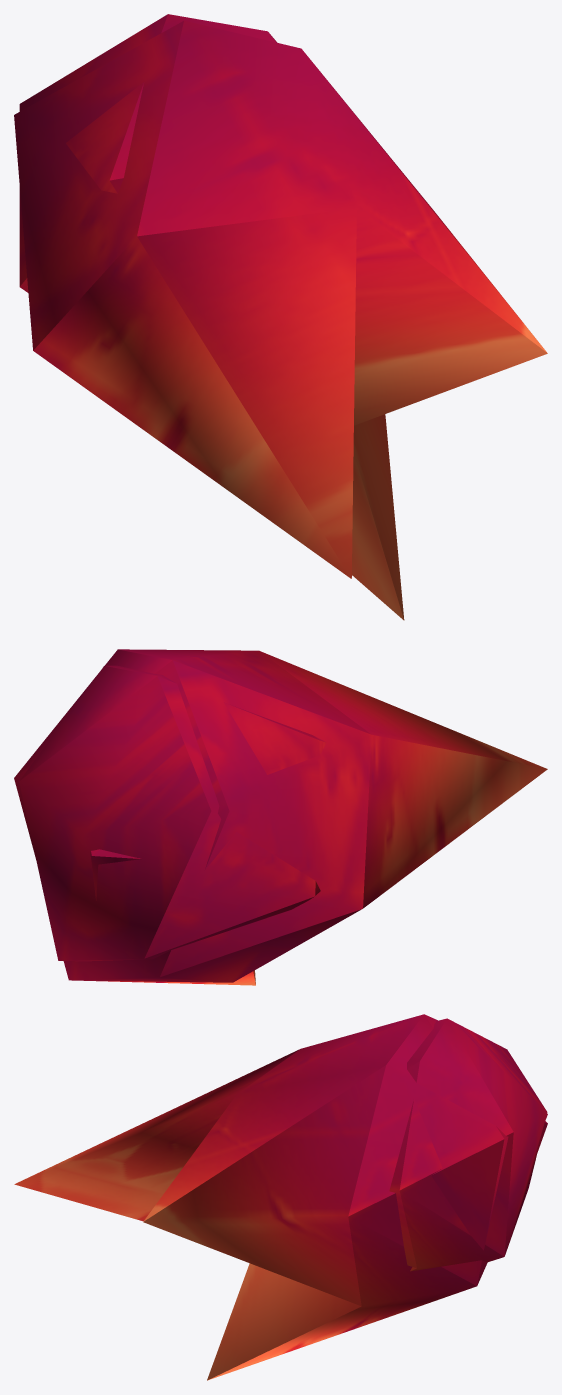
The model's file is model_equipped.glb.
3 views of the same model, one above another, from view 1: azimuth 30°, elevation 25°; view 2: azimuth 150°, elevation 25°; view 3: azimuth 270°, elevation 25° (orthographic). The views are drawn at different scales.
Parts seen in each view (by area): view 1: mineral node.model_set-MeshSets[mesh4].Mesh[0], mineral node.model_set-MeshSets[mesh3].Mesh[0]; view 2: mineral node.model_set-MeshSets[mesh4].Mesh[0], mineral node.model_set-MeshSets[mesh3].Mesh[0], mineral node.model_set-MeshSets[mesh2].Mesh[0]; view 3: mineral node.model_set-MeshSets[mesh4].Mesh[0], mineral node.model_set-MeshSets[mesh3].Mesh[0].
Part boxes in pixels (box(x1,y1,x2,y2)): mineral node.model_set-MeshSets[mesh4].Mesh[0]: box(14, 20, 547, 620); mineral node.model_set-MeshSets[mesh3].Mesh[0]: box(19, 14, 277, 292); mineral node.model_set-MeshSets[mesh4].Mesh[0]: box(14, 649, 547, 985); mineral node.model_set-MeshSets[mesh3].Mesh[0]: box(19, 665, 326, 961); mineral node.model_set-MeshSets[mesh2].Mesh[0]: box(90, 849, 141, 900); mineral node.model_set-MeshSets[mesh4].Mesh[0]: box(14, 1014, 547, 1380); mineral node.model_set-MeshSets[mesh3].Mesh[0]: box(389, 1018, 547, 1271).
Bounding box in the file's own units: 0.9636 × 1.22 × 1.7.
Materials: 1 (1 with a texture image).
